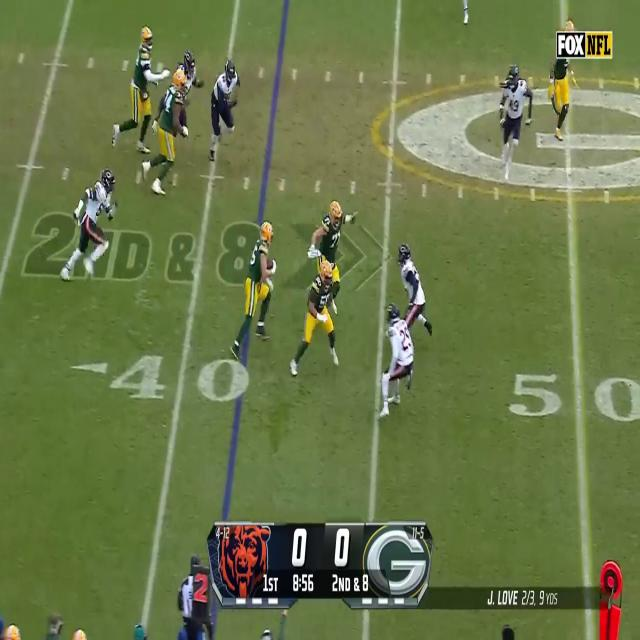Player: (236, 210, 274, 364), (150, 68, 187, 200), (300, 262, 340, 378), (71, 167, 112, 278), (381, 304, 416, 417), (500, 66, 532, 182), (128, 22, 154, 150), (211, 58, 240, 163), (398, 242, 426, 324), (310, 198, 345, 259)
